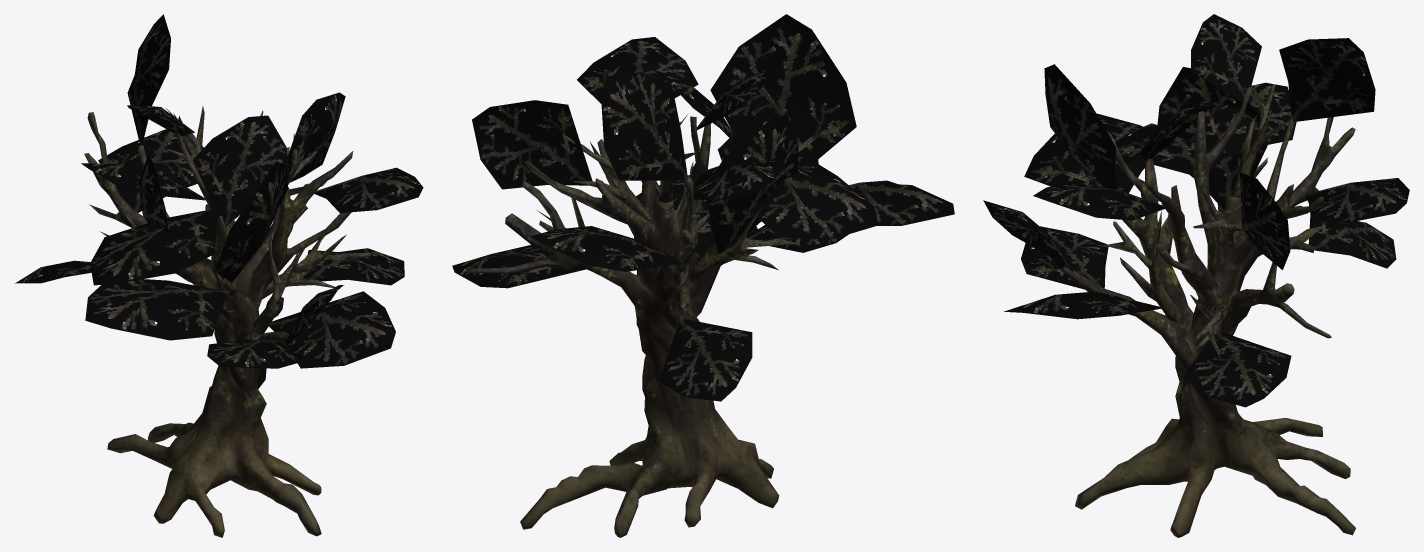
The model's file is sf_tree_11.glb.
The picture shows the model from 3 angles, left to right: view 1: azimuth 30°, elevation 25°; view 2: azimuth 150°, elevation 25°; view 3: azimuth 270°, elevation 25°; orthographic projection. The views are drawn at different scales.
Visible parts, largest first — view 1: leaves_branches_0, tree2_tree2_0; view 2: leaves_branches_0, tree2_tree2_0; view 3: leaves_branches_0, tree2_tree2_0.
Boxes of the visible parts, x1=… form: leaves_branches_0: x1=15, y1=14, x2=423, y2=368; tree2_tree2_0: x1=84, y1=106, x2=370, y2=537; leaves_branches_0: x1=452, y1=14, x2=954, y2=401; tree2_tree2_0: x1=471, y1=71, x2=800, y2=537; leaves_branches_0: x1=983, y1=14, x2=1409, y2=407; tree2_tree2_0: x1=1060, y1=84, x2=1355, y2=537.
Bounding box in the file's own units: 7.46 × 8 × 6.69.
2 materials, 2 textured.
